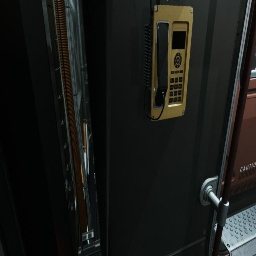EmergencyPhone ,: (143, 0, 193, 121)
